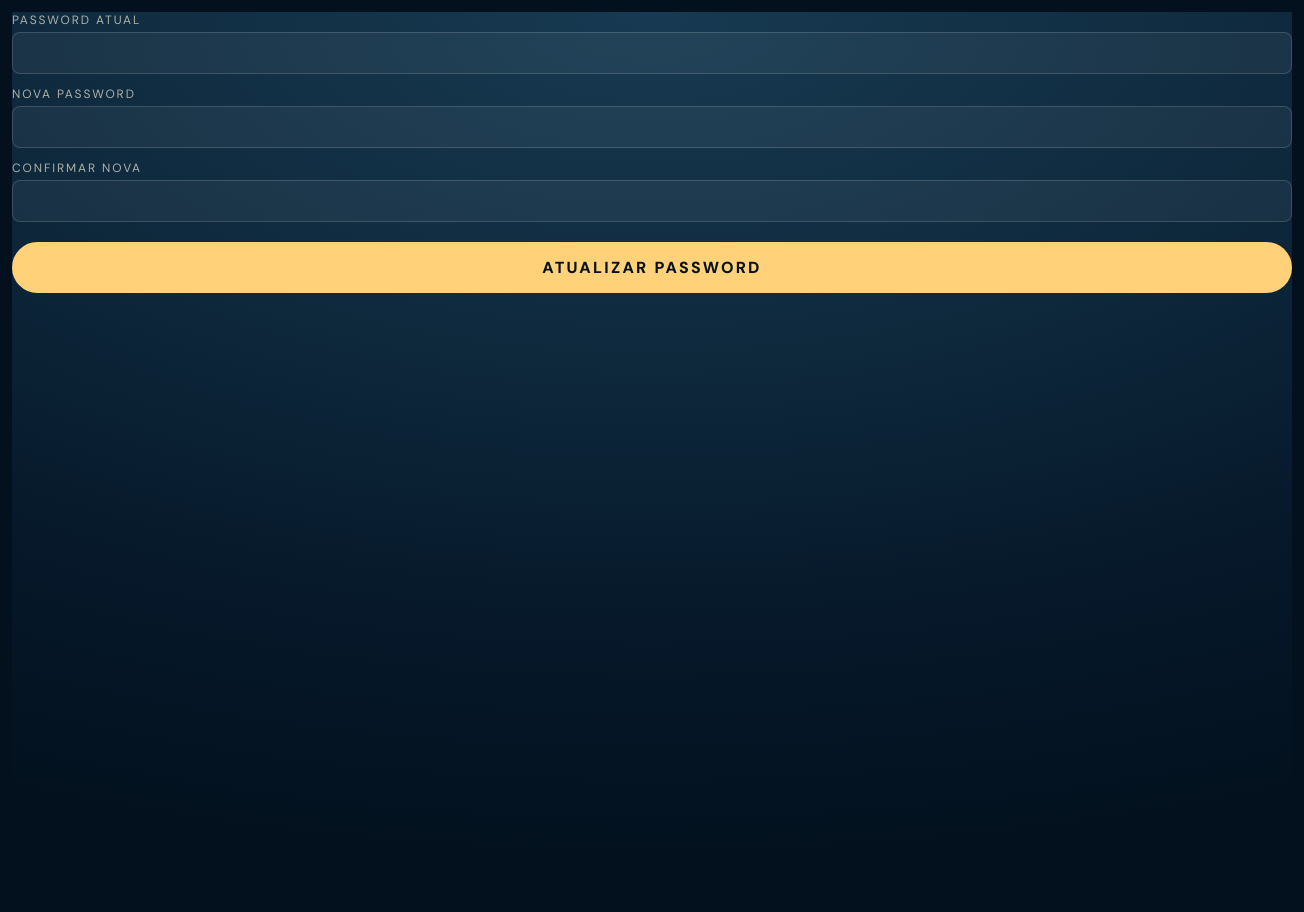
AccountForm › erro: confirmação não bate
This screenshot has width=1304, height=912.
Type "old-pw-1234" into the password field labelled "Password atual" at [652, 53], box [12,32,1292,74]
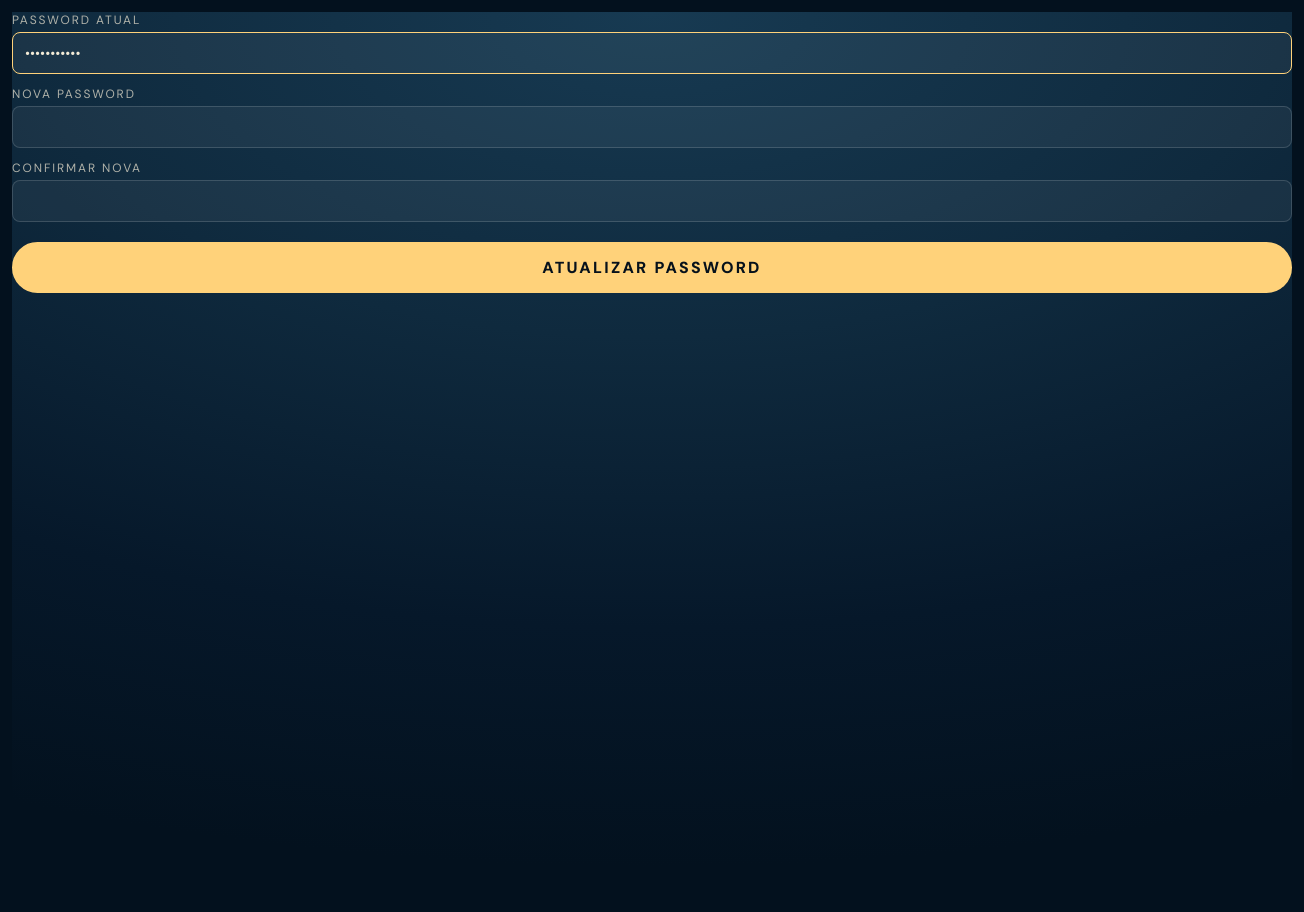
Type "new-pw-1234567" into the password field labelled "Nova password" at [652, 127], box [12,106,1292,148]
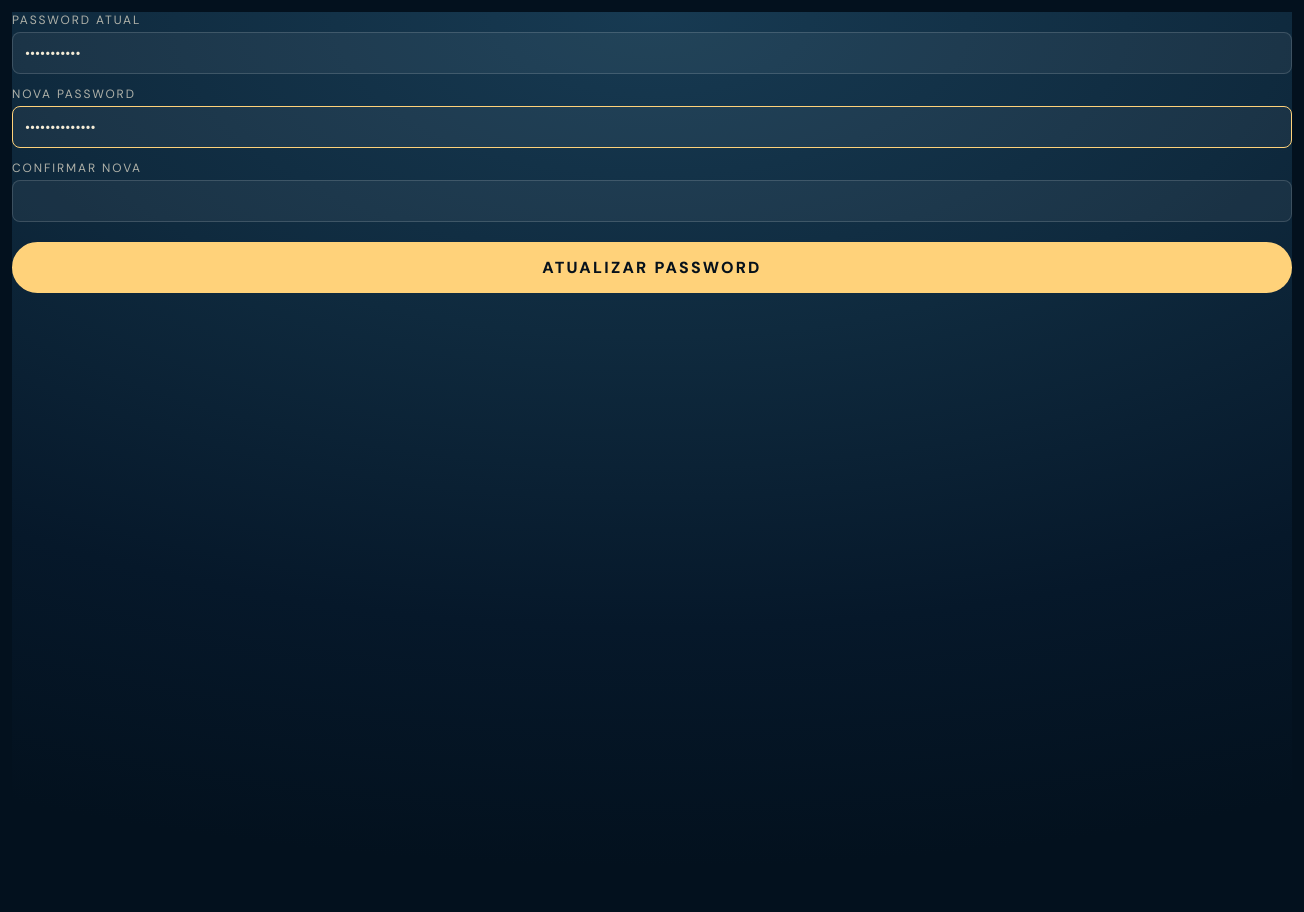
Type "different-1234" into the password field labelled "Confirmar nova" at [652, 201], box [12,180,1292,222]
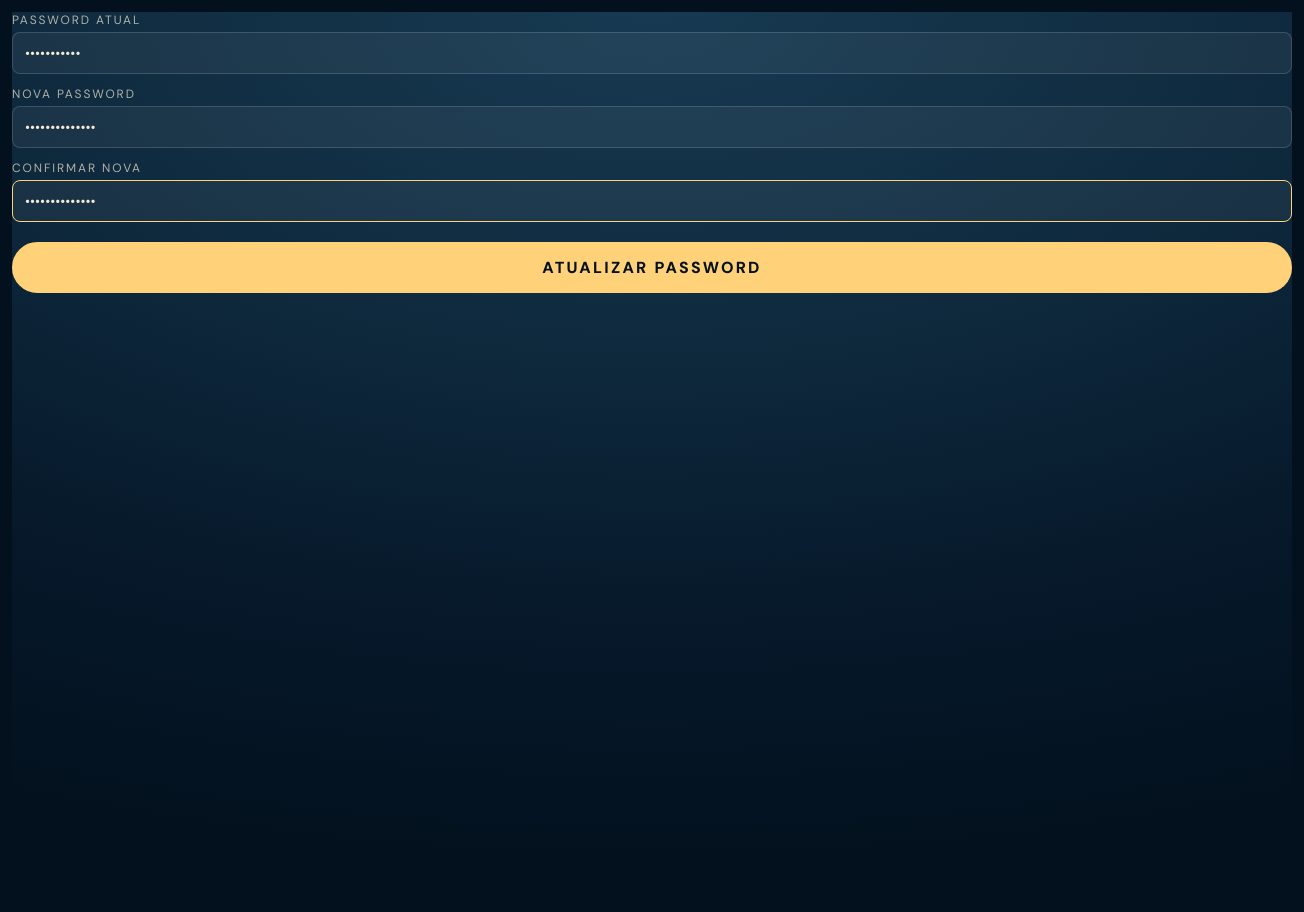
Click the button "ATUALIZAR PASSWORD" at [652, 268], box [12,242,1292,293]
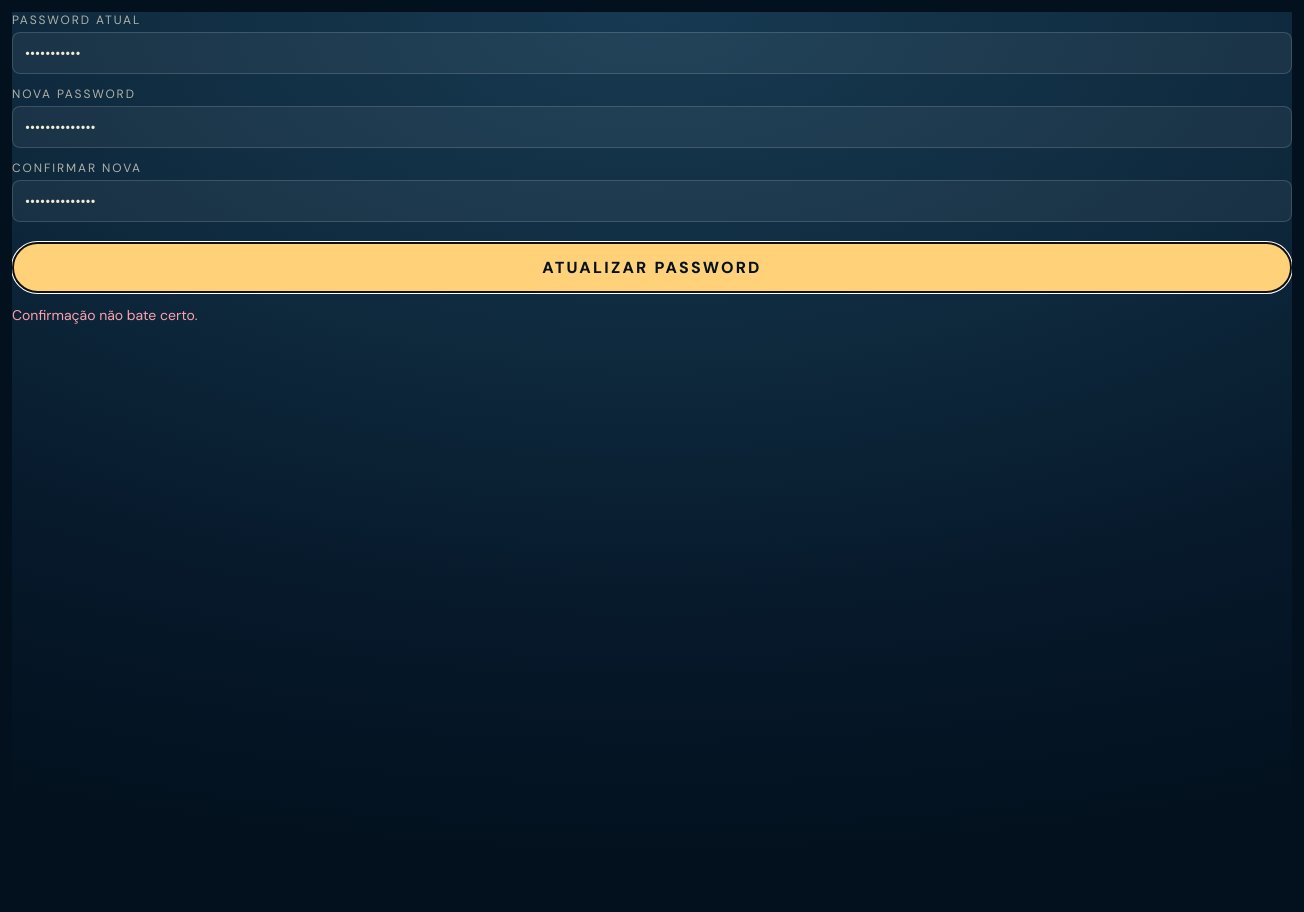
Expected: the message shows "Confirmação", [12,306,198,324]
